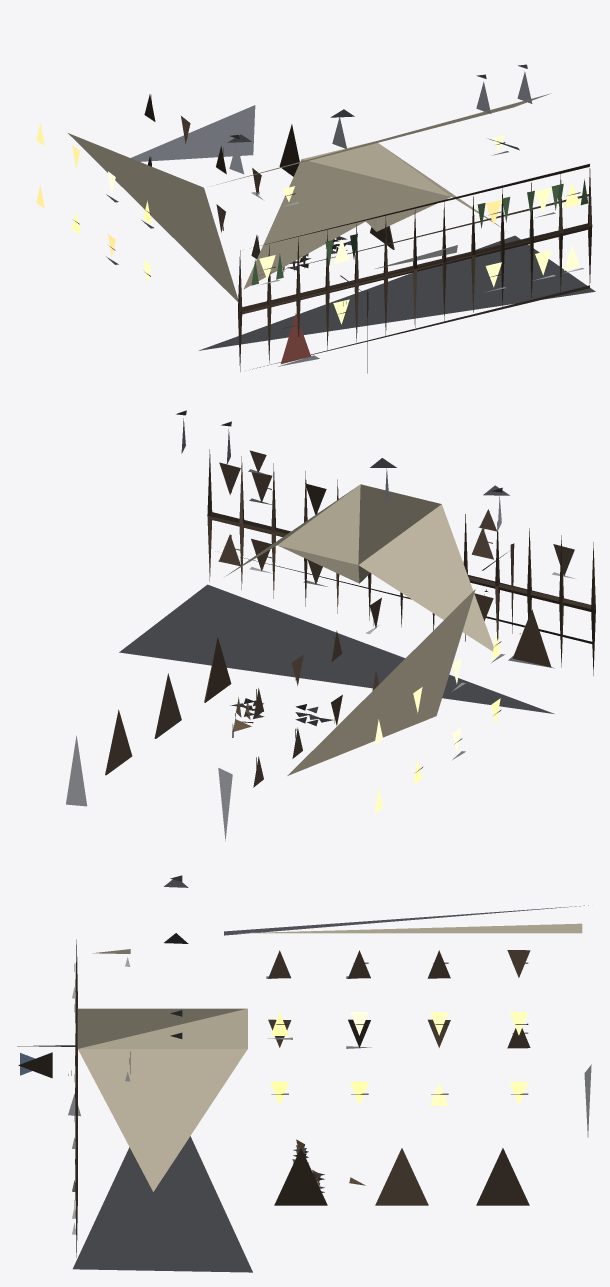
File: prancing_pony_lod2.glb
The picture shows the model from 3 angles, top to bottom: view 1: azimuth 30°, elevation 25°; view 2: azimuth 150°, elevation 25°; view 3: azimuth 270°, elevation 25°; orthographic projection. The views are drawn at different scales.
Parts seen in each view (by area): view 1: prancing_pony_lod2; view 2: prancing_pony_lod2; view 3: prancing_pony_lod2.
Part boxes in pixels (x1,y1,x2,y2): prancing_pony_lod2: (36, 64, 595, 373); prancing_pony_lod2: (66, 410, 595, 841); prancing_pony_lod2: (17, 875, 591, 1272).
Bounding box in the file's own units: 18.2 × 9.44 × 21.9.
